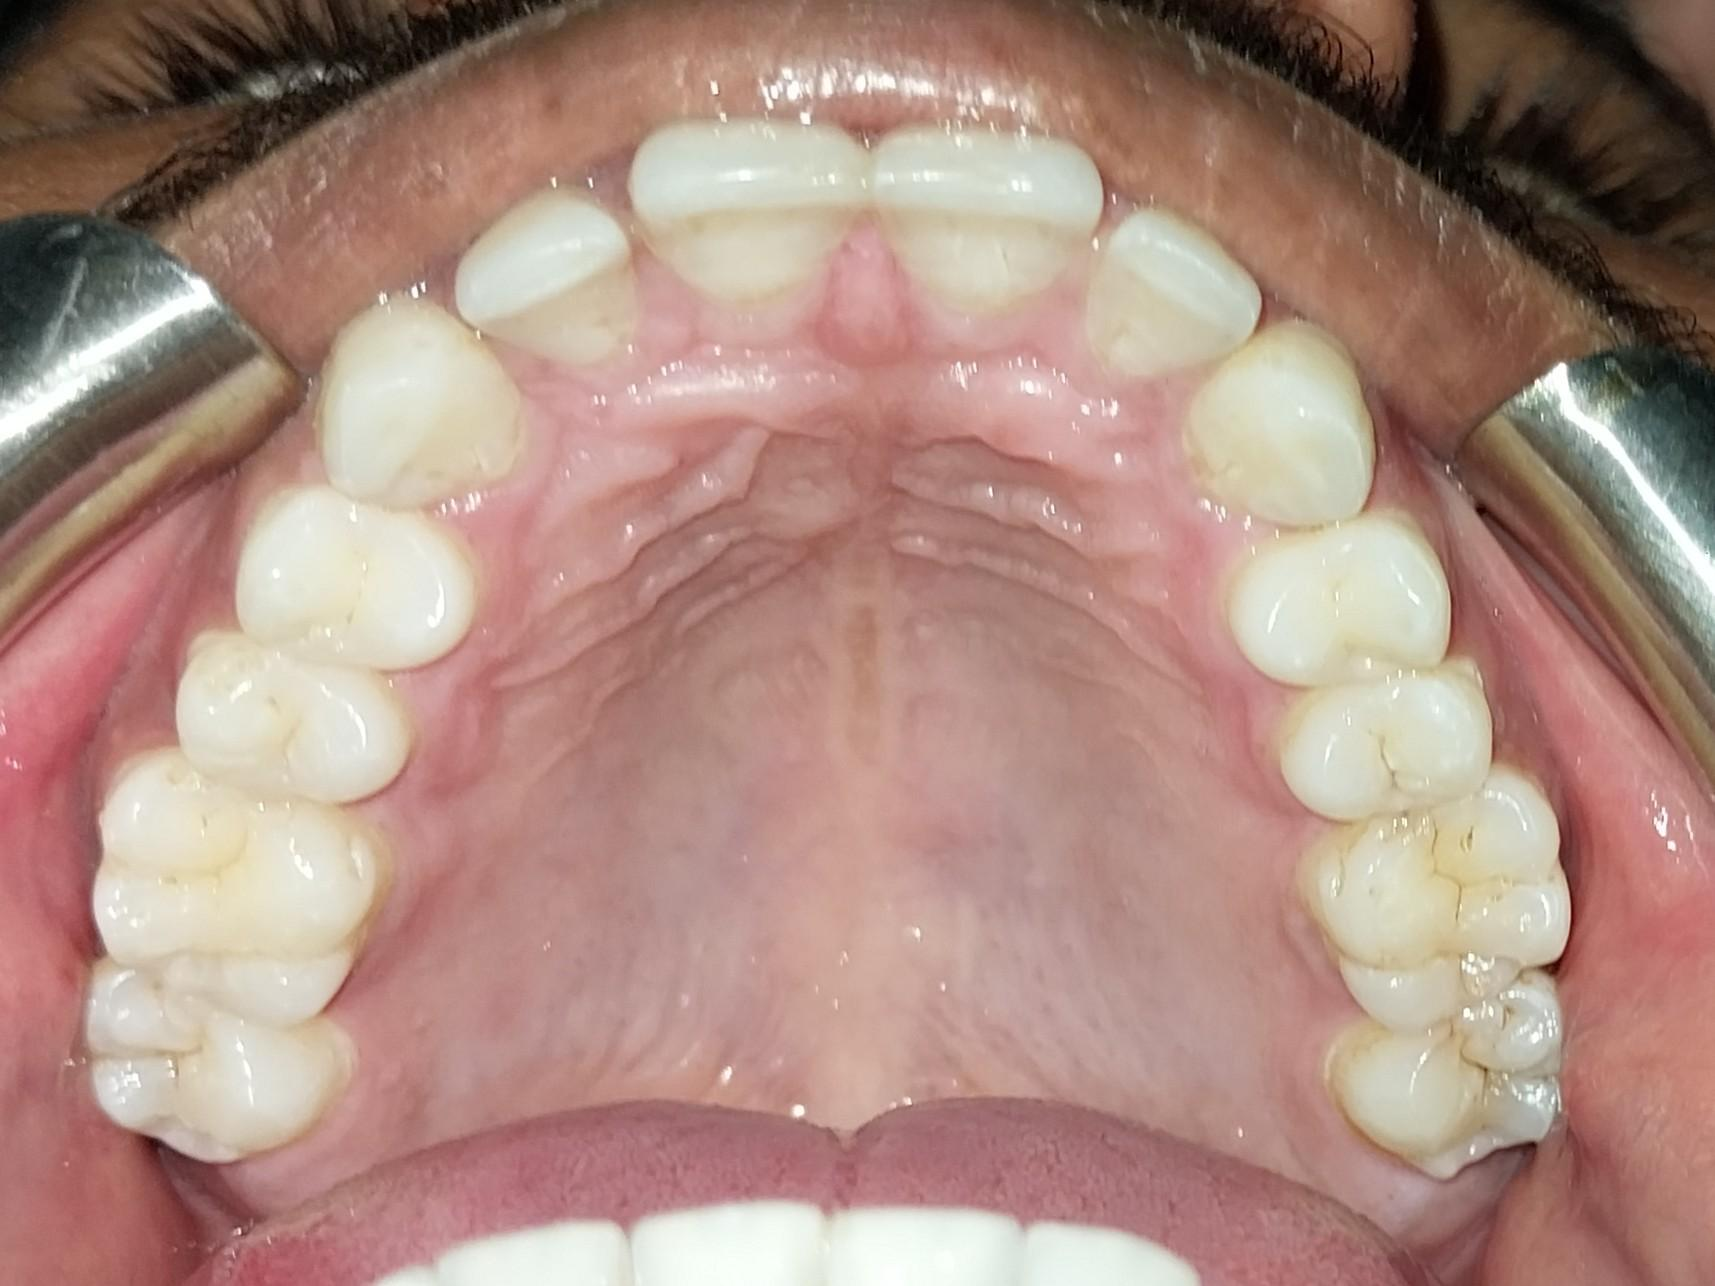D: (1322, 985, 1572, 1176)
